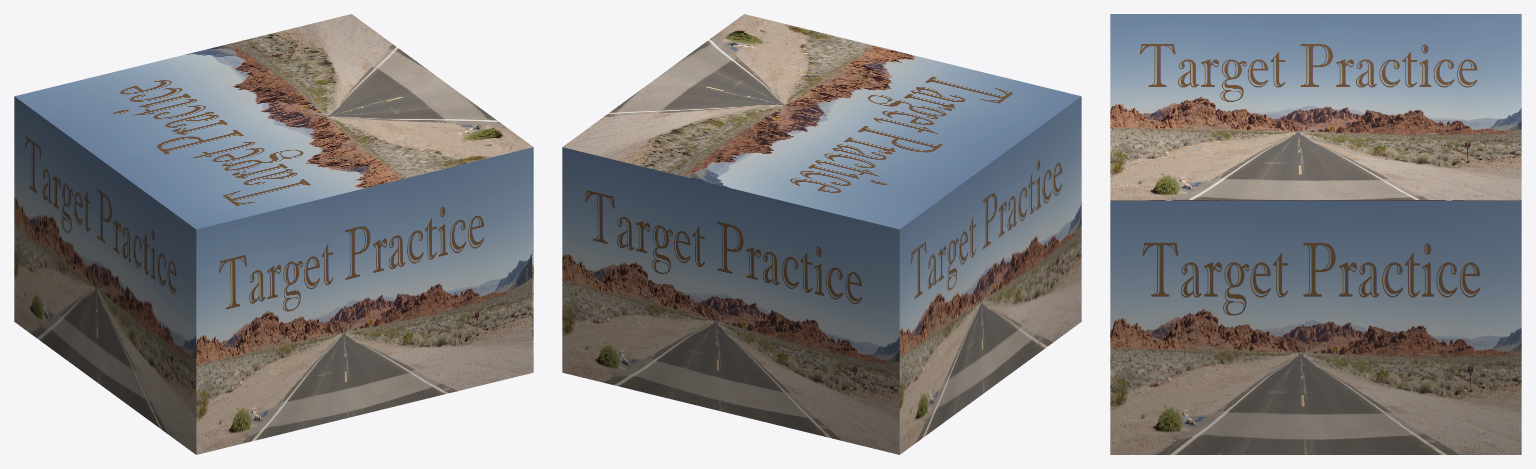
File: MainMenuBG.fbx
3 renders of one model, left to right at view 1: azimuth 30°, elevation 25°; view 2: azimuth 150°, elevation 25°; view 3: azimuth 270°, elevation 25°, orthographic. The views are drawn at different scales.
Parts seen in each view (by area): view 1: pCube1; view 2: pCube1; view 3: pCube1.
Boxes of the visible parts, left/top/right/bottom form: pCube1: left=14, top=14, right=533, bottom=454; pCube1: left=562, top=14, right=1081, bottom=454; pCube1: left=1110, top=14, right=1521, bottom=454.
Size of the model in its own units: 23.94 by 15.29 by 22.35.
Materials: 1 (1 with a texture image).
